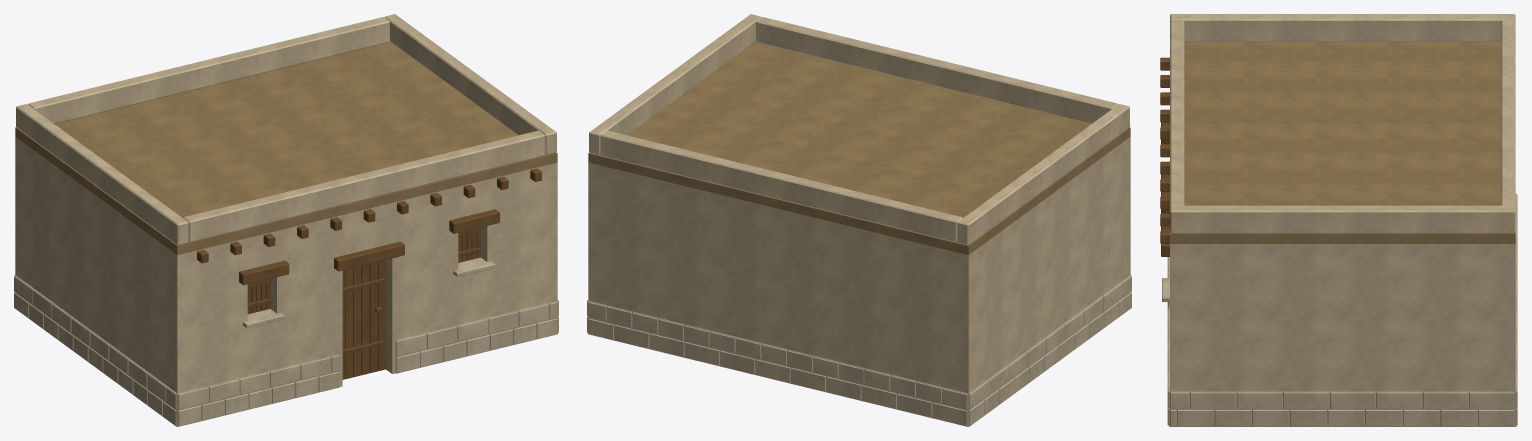
The picture shows the model from 3 angles, left to right: view 1: azimuth 30°, elevation 25°; view 2: azimuth 150°, elevation 25°; view 3: azimuth 270°, elevation 25°; orthographic projection. The views are drawn at different scales.
Visible parts, largest first — view 1: dwelling metres; view 2: dwelling metres; view 3: dwelling metres.
Part boxes in pixels (x1,y1,x2,y2): dwelling metres: (14, 14, 558, 426); dwelling metres: (587, 14, 1131, 426); dwelling metres: (1160, 14, 1517, 426).
Bounding box in the file's own units: 6.56 × 3.3 × 4.97.
Materials: 4 (4 with a texture image).
